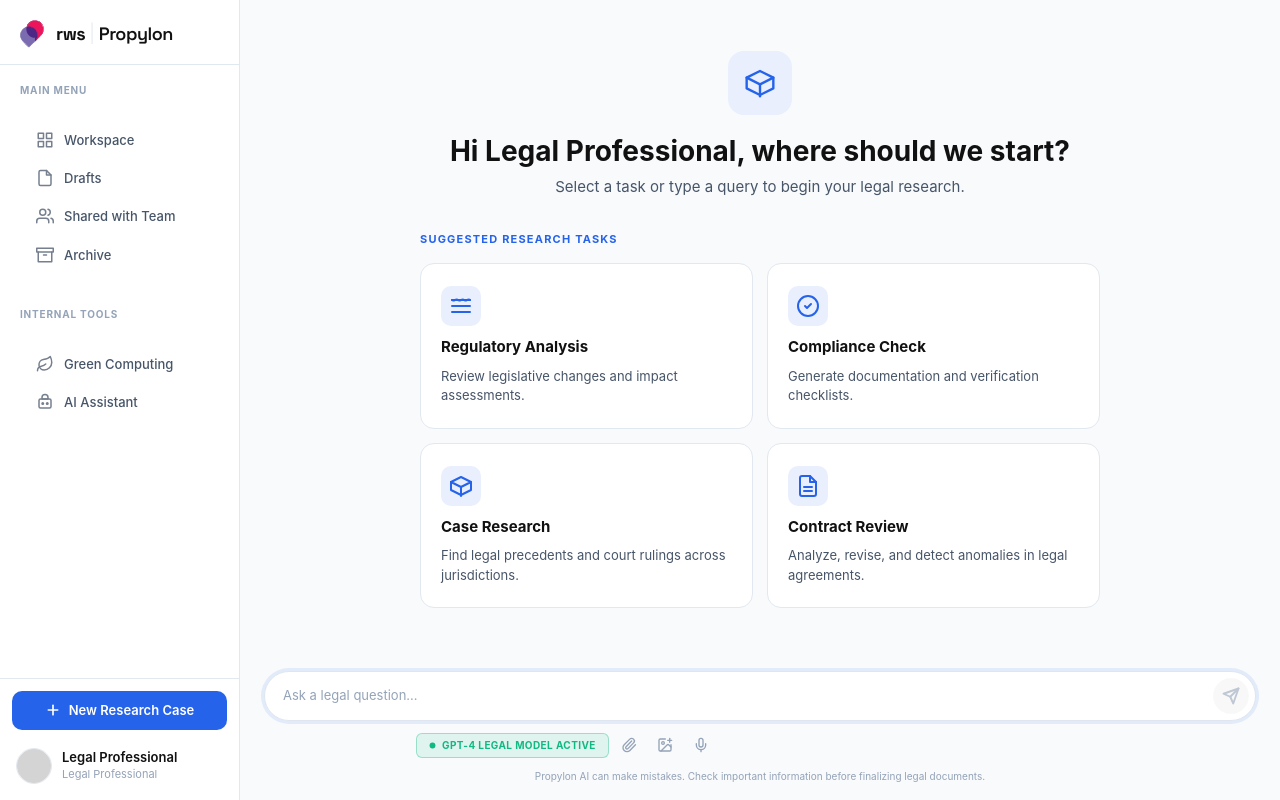
Test: AIagentPage › Chat Flow › shows reasoning panel after first message
Type "test" into the text box with placeholder "Ask a legal question…" at (744, 696), box [283,680,1205,712]
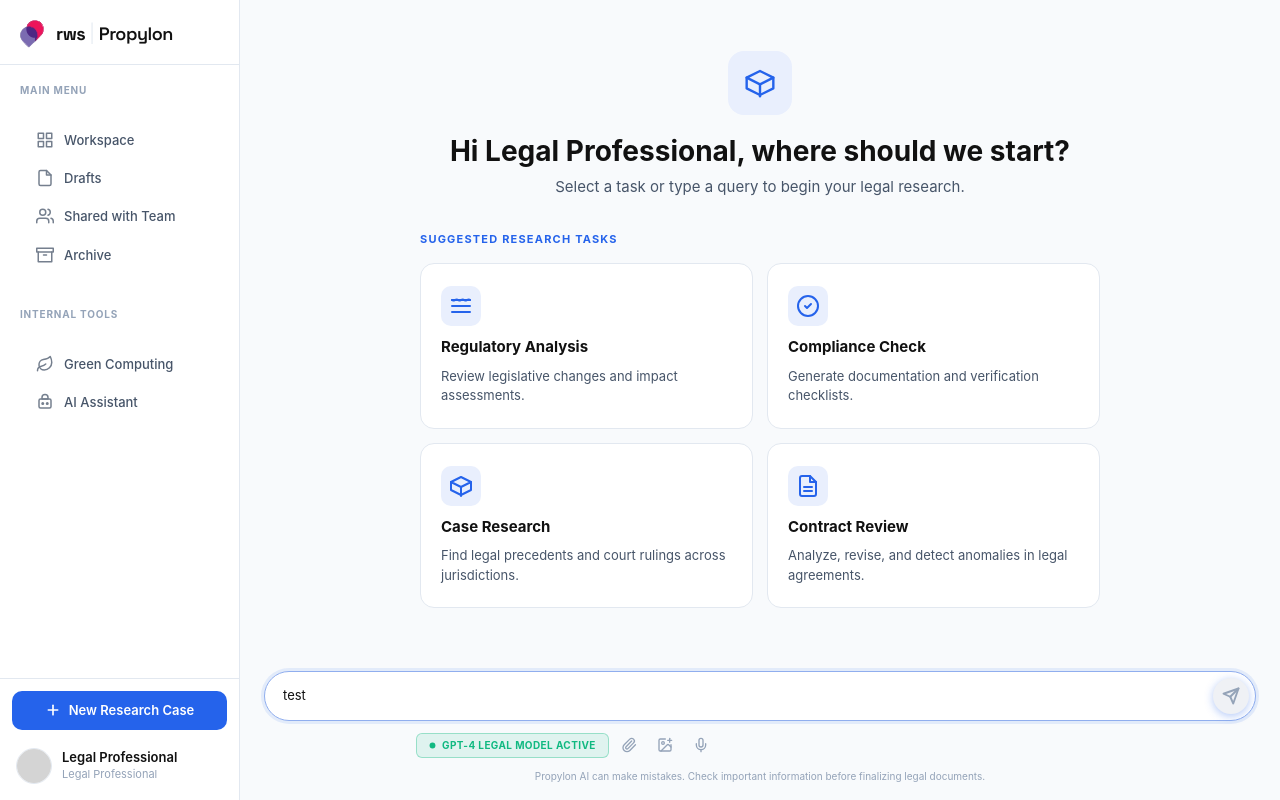
Click the button named "send message" at (1231, 696), box [1213,678,1249,714]
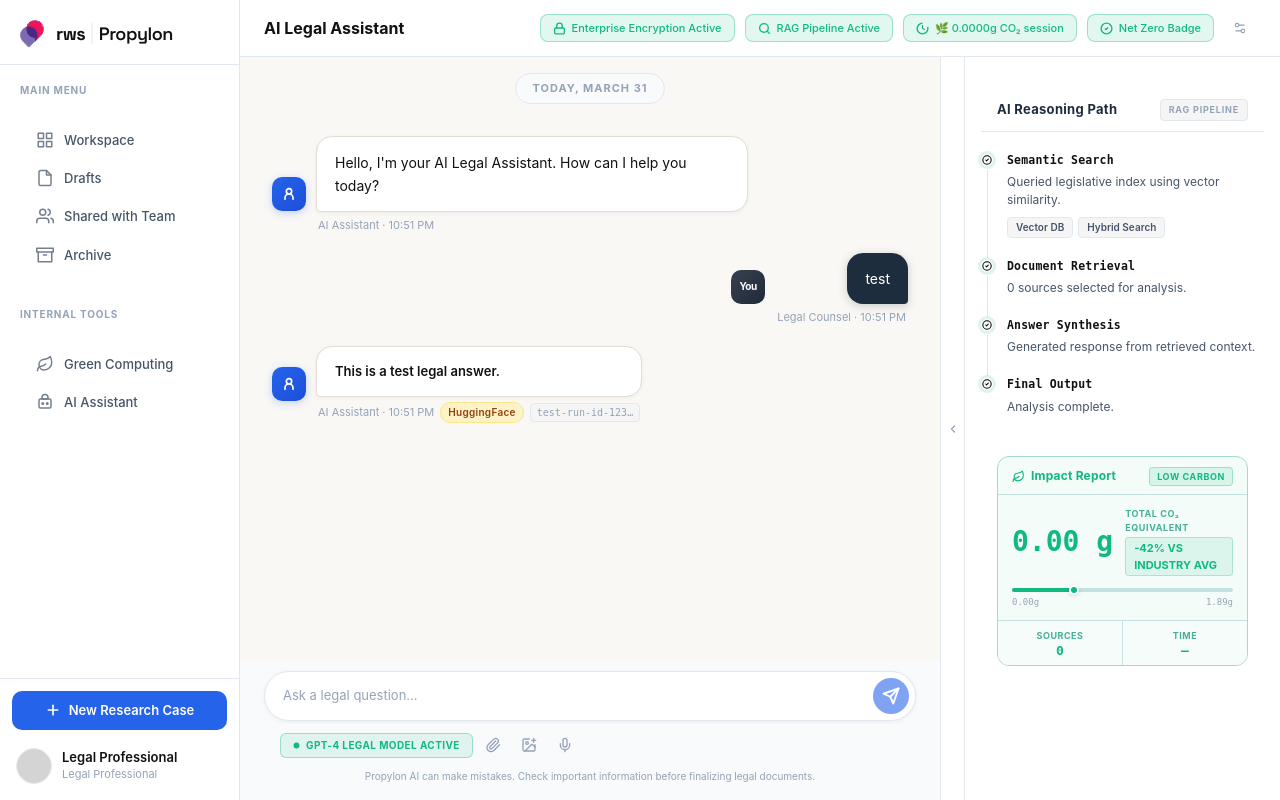
Check: the text "AI Reasoning Path" is shown, box [997,100,1117,120]
